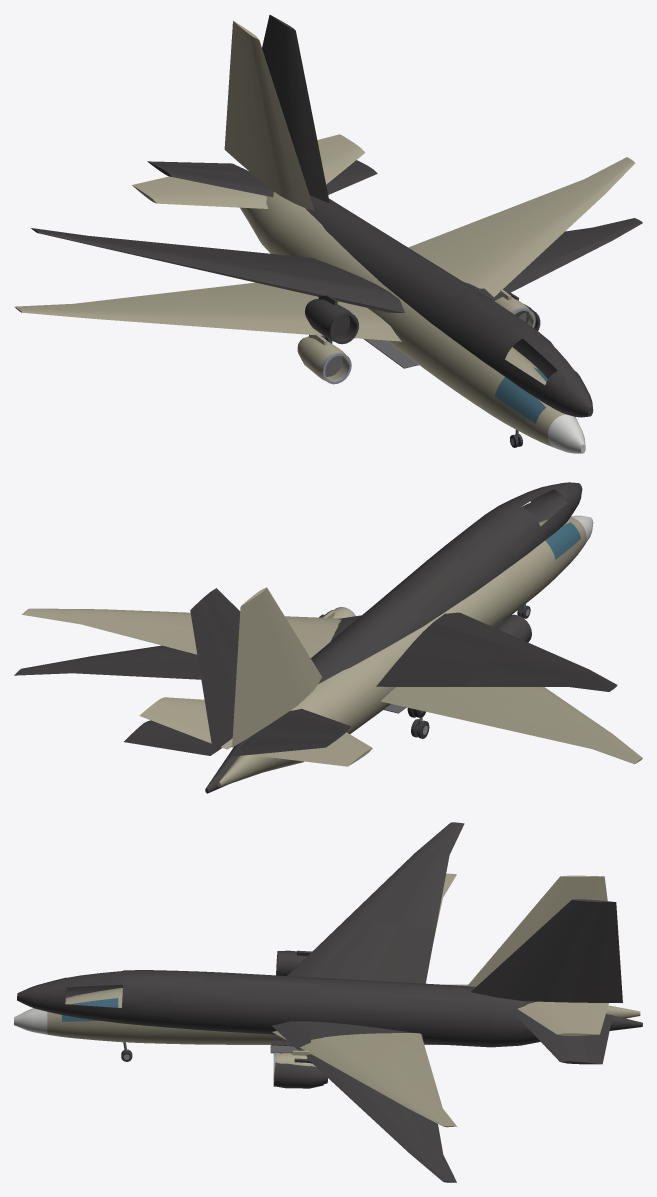
File: maritimePatrol__p_8a_poseidon.glb
3 renders of one model, top to bottom at view 1: azimuth 30°, elevation 25°; view 2: azimuth 150°, elevation 25°; view 3: azimuth 270°, elevation 25°, orthographic. The views are drawn at different scales.
Visible parts, largest first — view 1: Fuselage_Mesh, Wreck; view 2: Wreck, Fuselage_Mesh; view 3: Wreck, Fuselage_Mesh.
Boxes of the visible parts, <box> form: Fuselage_Mesh: <box>14,21,635,453</box>; Wreck: <box>31,15,642,417</box>; Wreck: <box>14,482,617,793</box>; Fuselage_Mesh: <box>22,515,642,787</box>; Wreck: <box>17,822,642,1182</box>; Fuselage_Mesh: <box>14,873,640,1127</box>.
Size of what is drawn, in the model's own units: 38.11 by 12.83 by 39.67.
